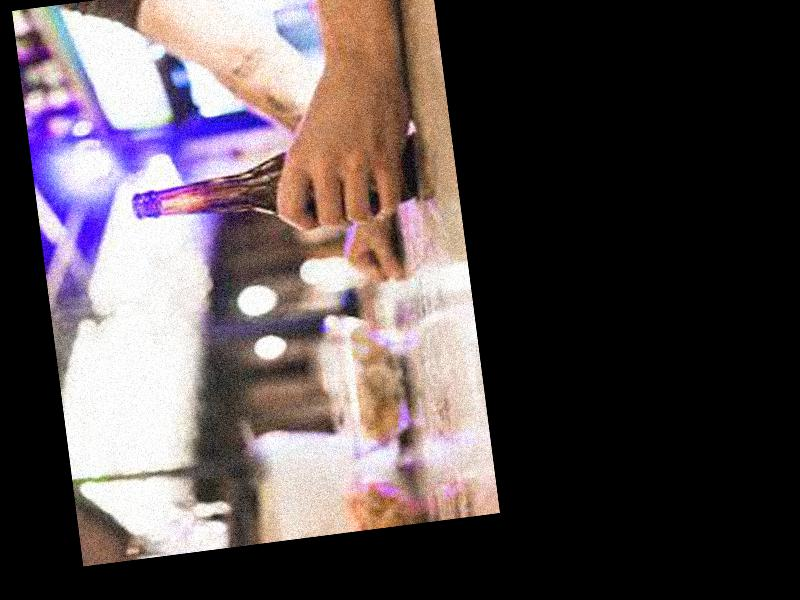Beer: (128, 136, 418, 235)
